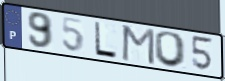5: (61, 15, 86, 55), (190, 34, 215, 73)
9: (27, 11, 56, 51)
L: (93, 20, 119, 61)
M: (120, 24, 156, 67)
O: (153, 30, 188, 69)
